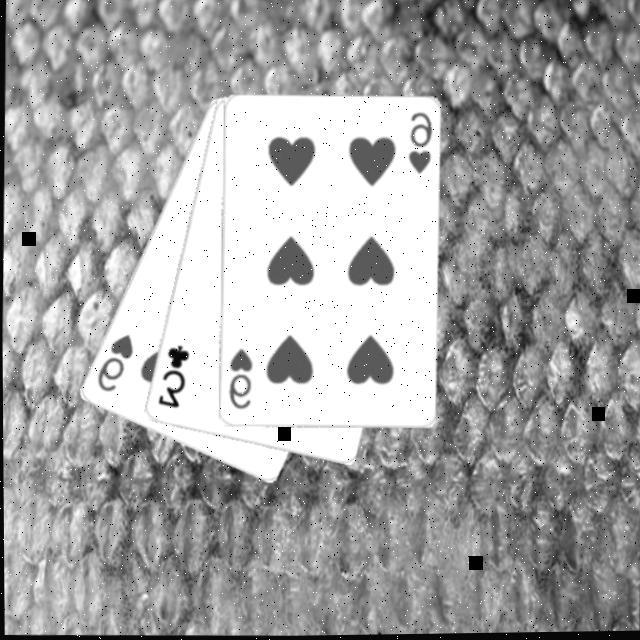3C: (154, 341, 193, 412)
6H: (93, 330, 137, 396), (225, 344, 256, 412), (406, 108, 436, 176)
